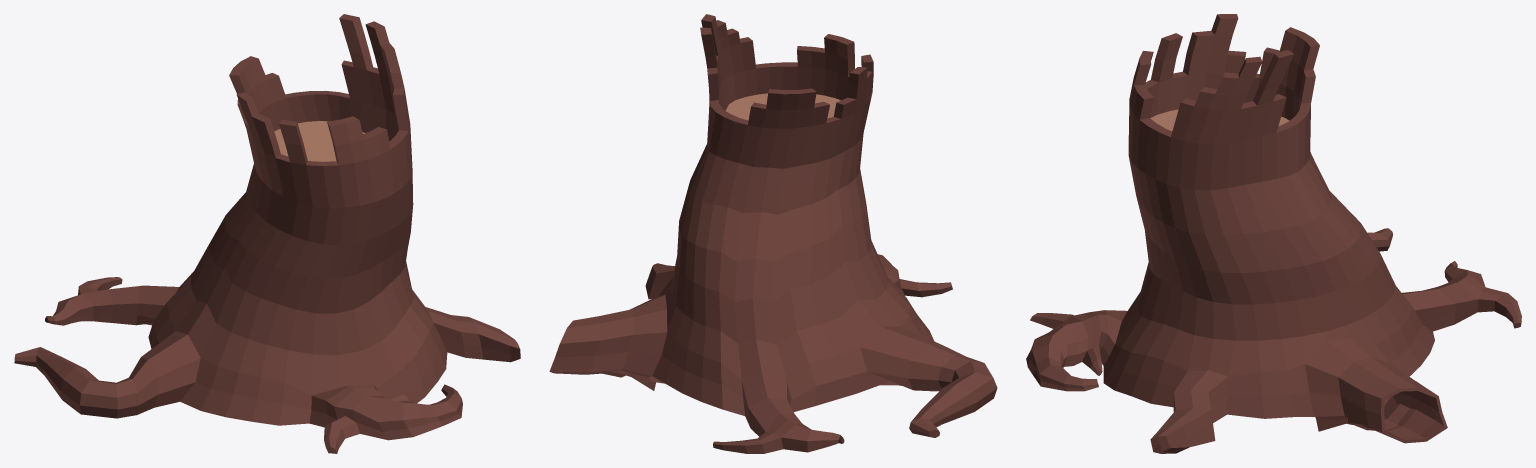
The model's file is GiantTree.fbx.
3 renders of one model, left to right at view 1: azimuth 30°, elevation 25°; view 2: azimuth 150°, elevation 25°; view 3: azimuth 270°, elevation 25°, orthographic. The views are drawn at different scales.
Visible parts, largest first — view 1: Cube.031; view 2: Cube.031; view 3: Cube.031.
Boxes of the visible parts, x1=… form: Cube.031: x1=14, y1=14, x2=520, y2=453; Cube.031: x1=549, y1=14, x2=997, y2=453; Cube.031: x1=1026, y1=14, x2=1521, y2=453.
Bounding box in the file's own units: 1381 × 1098 × 1405.
